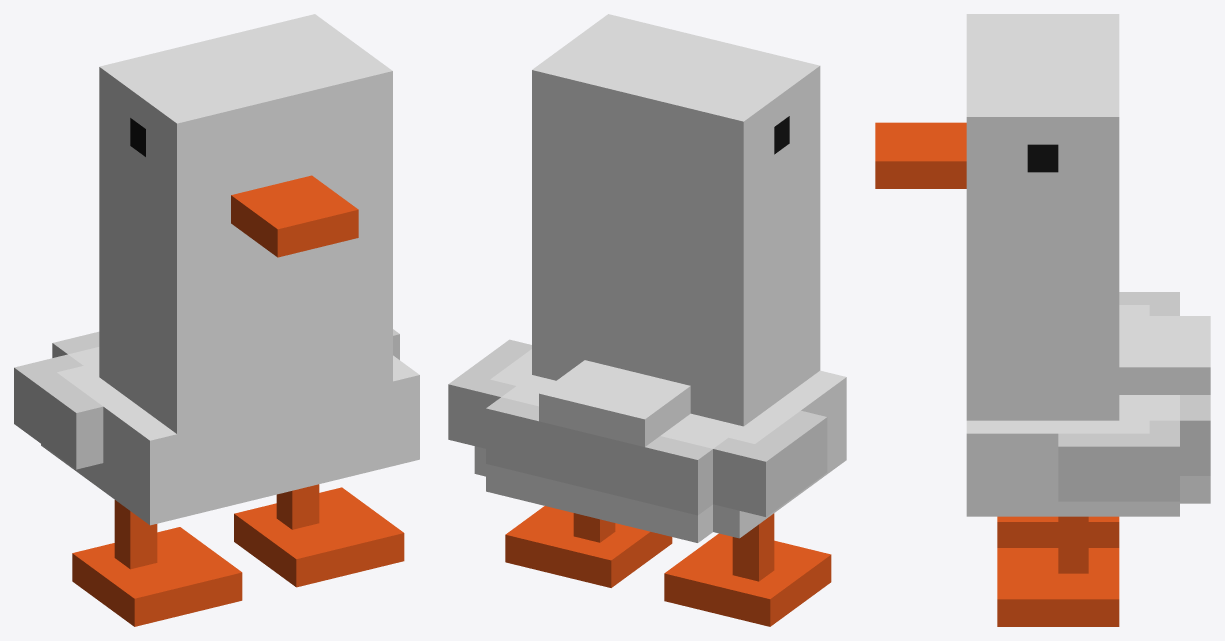
The model's file is gooseVoxel.obj.
3 renders of one model, left to right at view 1: azimuth 30°, elevation 25°; view 2: azimuth 150°, elevation 25°; view 3: azimuth 270°, elevation 25°, orthographic. The views are drawn at different scales.
Size of the model in its own units: 1.2 by 1.8 by 1.1.
Materials: 1 (1 with a texture image).
